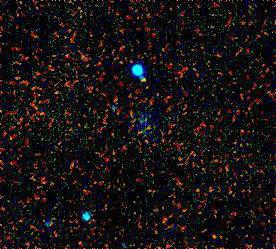star: (128, 68, 158, 98)
